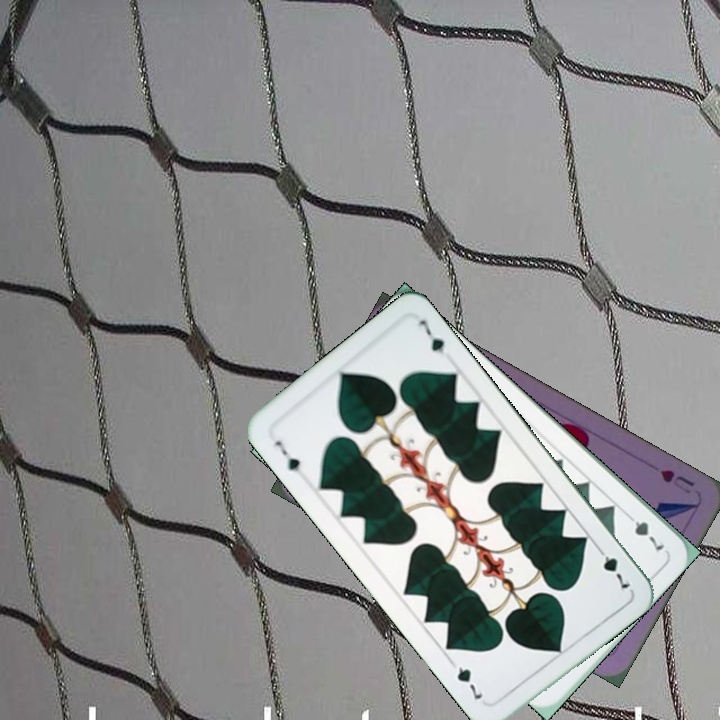G7: (621, 508, 667, 554), (592, 542, 633, 592), (270, 436, 303, 475)
HU: (656, 465, 697, 489)
